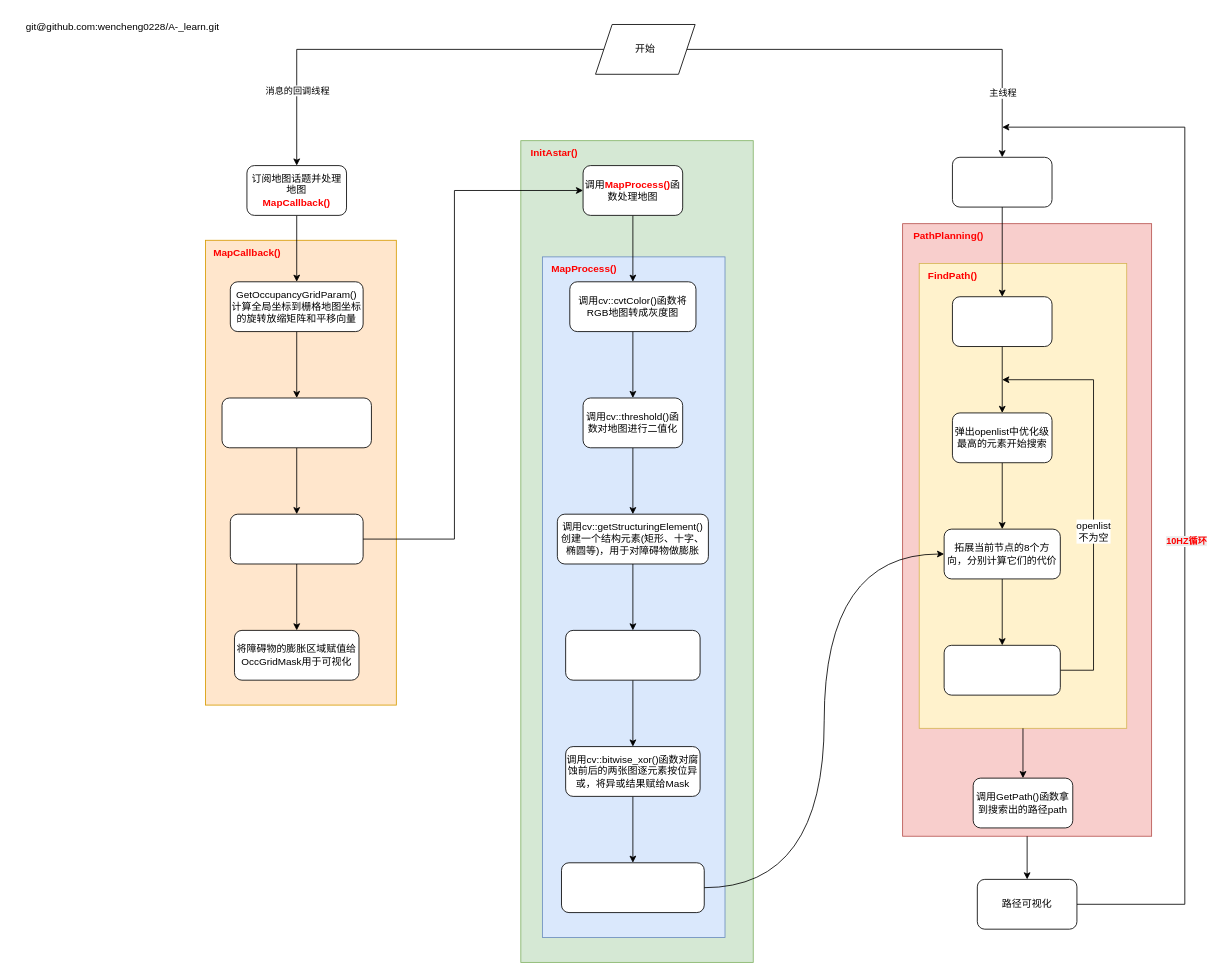
The diagram is 1220 pixels wide and 977 high, and some of its shapes have lost their labels. Each missing label, with the box of its shape:
在OpenDict中存放它们的细节，然后按照它们的代价插入openlist中: (943, 644, 1060, 695)
基于膨胀后的障碍物栅格地图构建障碍物标记地图LabelMap: (561, 862, 704, 913)
将mat格式的地图等传入A*的 InitAstar() 中，构造A*问题: (229, 513, 363, 564)
将ros中的OccupancyGrid格式的地图消息转成opencv的mat格式: (221, 397, 371, 448)
将起始点放进优化队列类型的openlist中: (952, 296, 1052, 347)
调用 PathPlanning() 函数进行搜索: (952, 156, 1052, 207)
调用cv::erode()函数对原图做腐蚀，以完成障碍物的膨胀: (565, 630, 700, 680)
